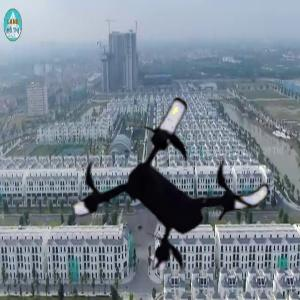drone: (73, 82, 275, 284)
